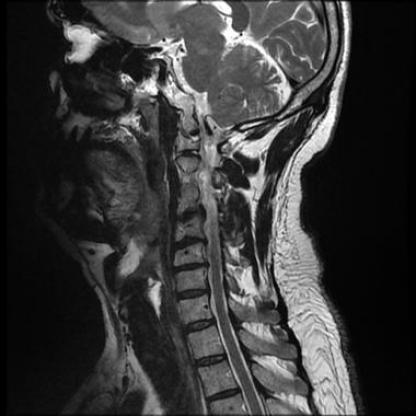Disc Protrusionrotation: (170, 259, 210, 274), (174, 286, 210, 302), (170, 234, 206, 250), (174, 208, 206, 225)
Osteophytesrotation: (170, 259, 210, 274), (174, 286, 210, 302), (170, 234, 206, 250), (174, 208, 206, 225)
